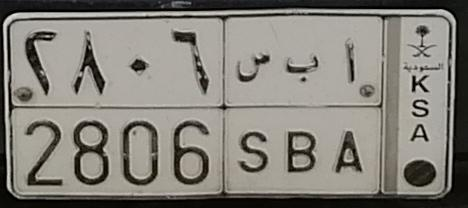0: (121, 58, 161, 188)
2: (24, 29, 63, 188)
6: (169, 28, 211, 185)
8: (71, 30, 112, 186)
A: (334, 37, 364, 174)
B: (285, 56, 320, 174)
S: (235, 50, 271, 174)
